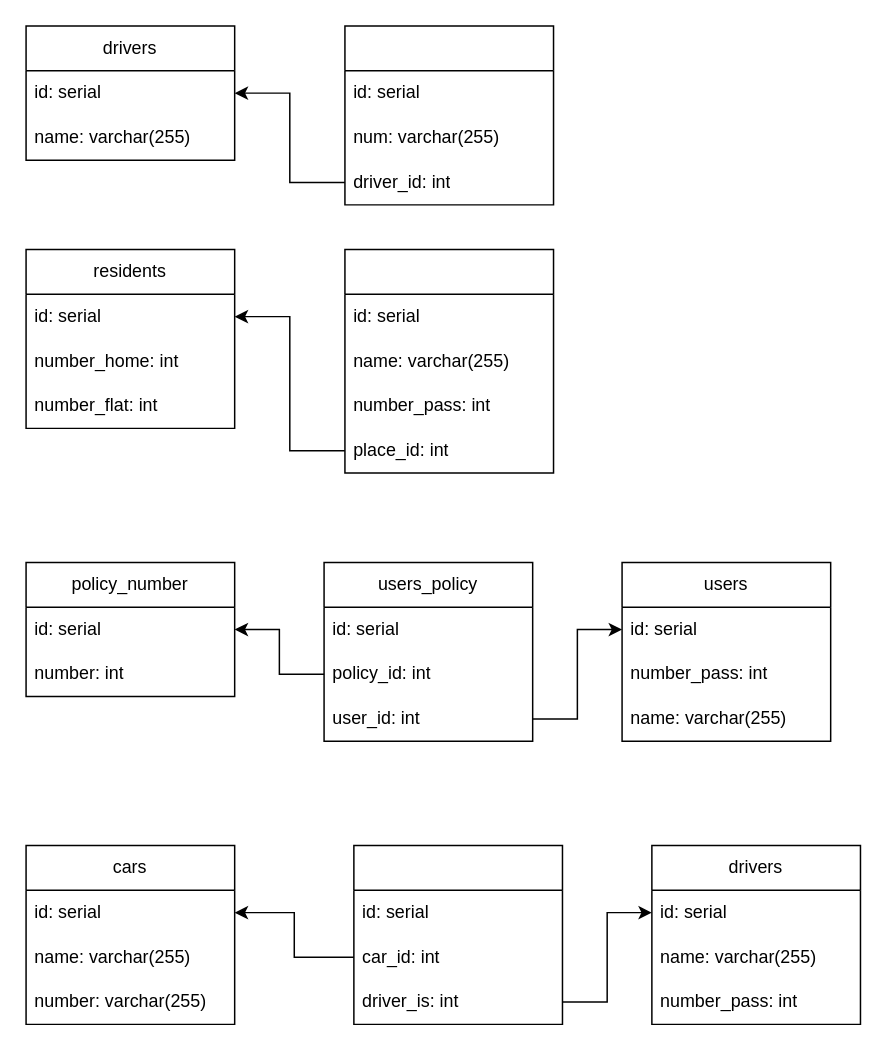
The diagram is 887 pixels wide and 1050 high, and some of its shapes have lost their labels. The box of each missing label's shape, as (x1, y1, x2, y2) in pixels:
drivers_cars: (352, 844, 562, 1024)
numbers: (343, 25, 554, 205)
place_of_residence: (343, 248, 554, 473)
